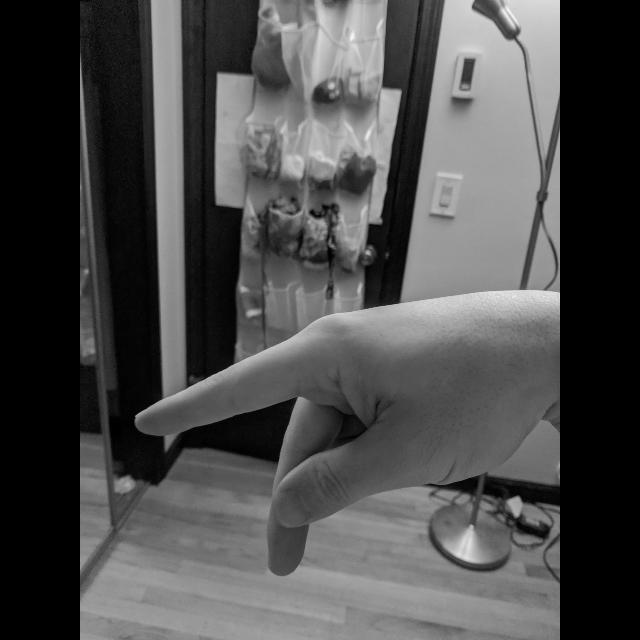P: (128, 282, 548, 580)
